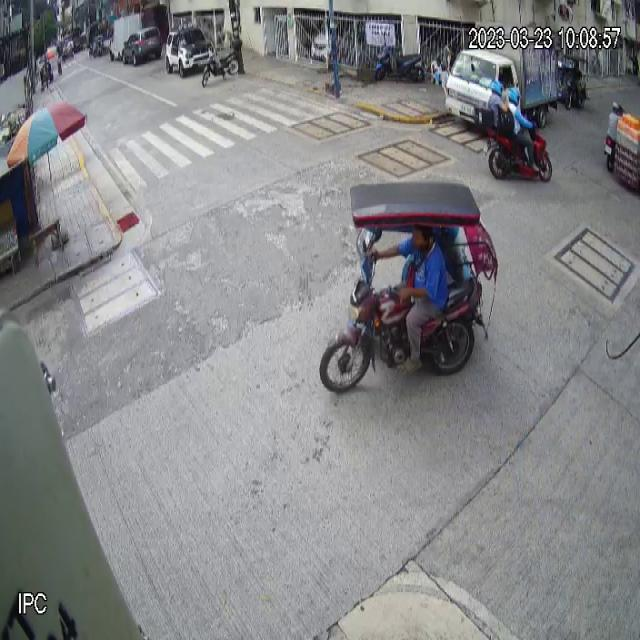Motorcycle: (482, 117, 553, 183)
Tricycle: (319, 183, 494, 394)
